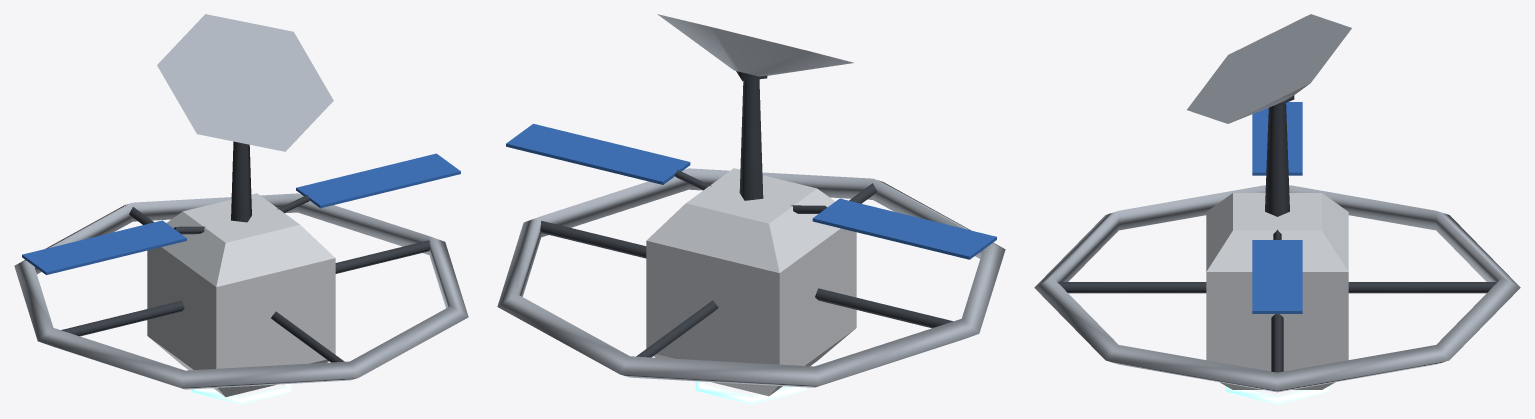
Rendered from ResearchLab_L1.glb.
3 views of the same model, side by side, from view 1: azimuth 30°, elevation 25°; view 2: azimuth 150°, elevation 25°; view 3: azimuth 270°, elevation 25° (orthographic). The views are drawn at different scales.
Parts seen in each view (by area): view 1: lab_core, observation_ring, deep_space_dish, solar_array_L, solar_array_R, mast, spoke_2, spoke_0, containment_ring, spoke_1; view 2: lab_core, observation_ring, solar_array_L, solar_array_R, deep_space_dish, mast, spoke_2, spoke_0, containment_ring, spoke_3; view 3: lab_core, observation_ring, deep_space_dish, solar_array_R, mast, solar_array_L, spoke_1, spoke_3, containment_ring, spoke_0.
Boxes of the visible parts, box(x1,y1,x2,y2) form: lab_core: box(147, 193, 335, 396); observation_ring: box(14, 193, 468, 389); deep_space_dish: box(157, 14, 333, 151); solar_array_L: box(22, 220, 186, 274); solar_array_R: box(296, 153, 460, 208); mast: box(231, 141, 251, 222); spoke_2: box(61, 300, 184, 336); spoke_0: box(335, 240, 430, 273); containment_ring: box(191, 383, 291, 404); spoke_1: box(271, 311, 344, 362); lab_core: box(646, 168, 856, 396); observation_ring: box(497, 168, 1005, 387); solar_array_L: box(812, 198, 996, 259); solar_array_R: box(506, 123, 690, 184); deep_space_dish: box(657, 14, 853, 76); mast: box(739, 79, 763, 200); spoke_2: box(815, 288, 952, 328); spoke_0: box(540, 220, 646, 258); containment_ring: box(695, 381, 807, 404); spoke_3: box(636, 300, 718, 357); lab_core: box(1206, 193, 1348, 389); observation_ring: box(1034, 185, 1520, 392); deep_space_dish: box(1187, 14, 1351, 123); solar_array_R: box(1252, 240, 1302, 313); mast: box(1265, 103, 1289, 216); solar_array_L: box(1252, 102, 1302, 175); spoke_1: box(1057, 282, 1206, 293); spoke_3: box(1348, 282, 1497, 293); containment_ring: box(1225, 386, 1329, 404); spoke_0: box(1271, 314, 1283, 372).
Bounding box in the file's own units: 236 × 187 × 232.
